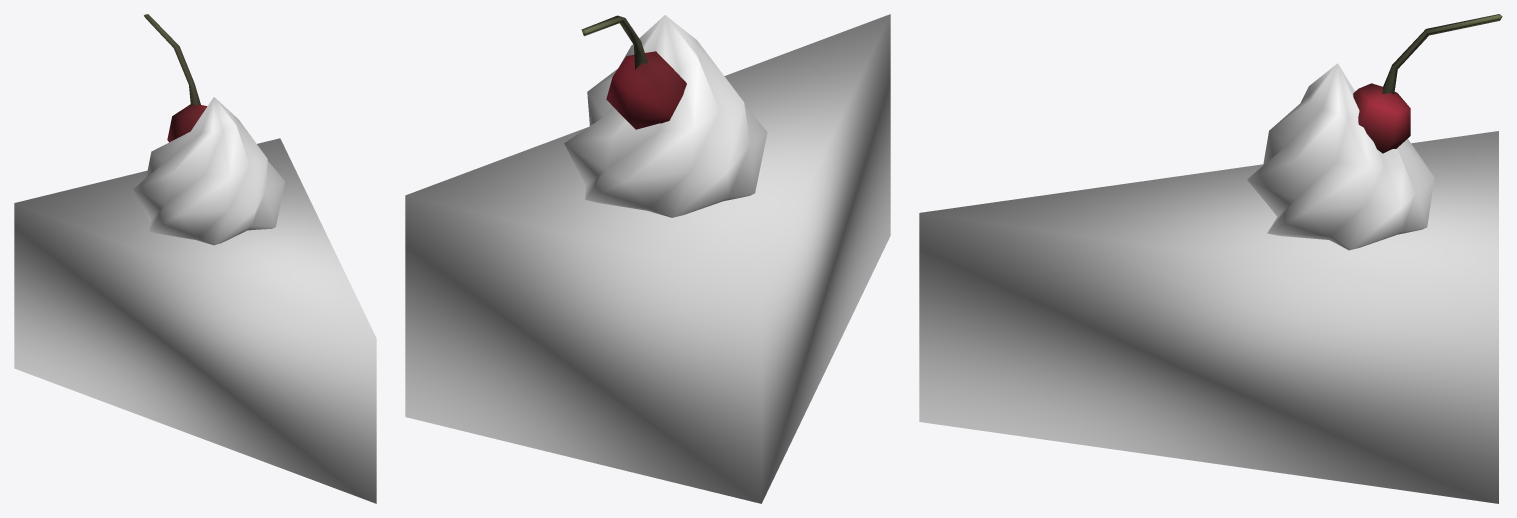
The model's file is Fbx_Cake.fbx.
3 views of the same model, side by side, from view 1: azimuth 30°, elevation 25°; view 2: azimuth 150°, elevation 25°; view 3: azimuth 270°, elevation 25° (orthographic). The views are drawn at different scales.
Visible parts, largest first — view 1: Cake; view 2: Cake; view 3: Cake.
Boxes of the visible parts, x1,y1,x2,y2 form: Cake: [14, 14, 376, 503]; Cake: [405, 14, 890, 503]; Cake: [919, 14, 1502, 503].
Size of the model in its own units: 0.0845 by 0.0976 by 0.127.
